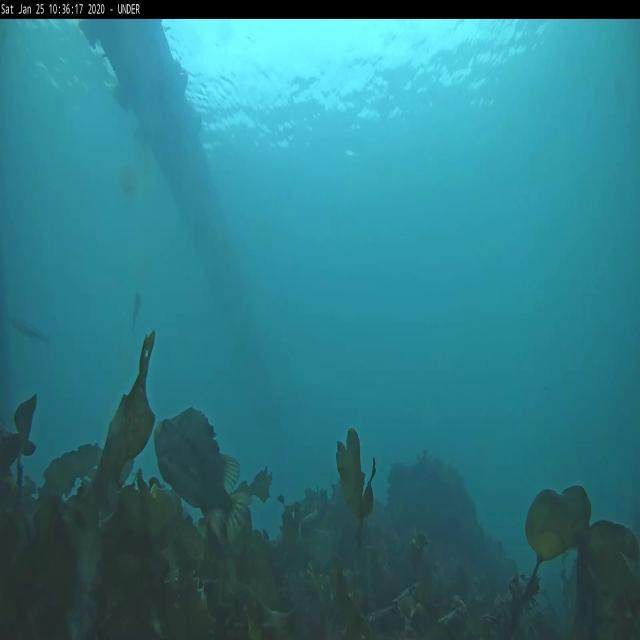fish: (5, 314, 50, 346), (132, 292, 142, 336)
